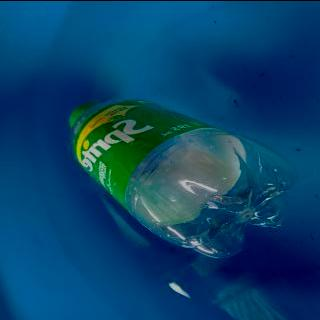bottle: (67, 96, 295, 257)
